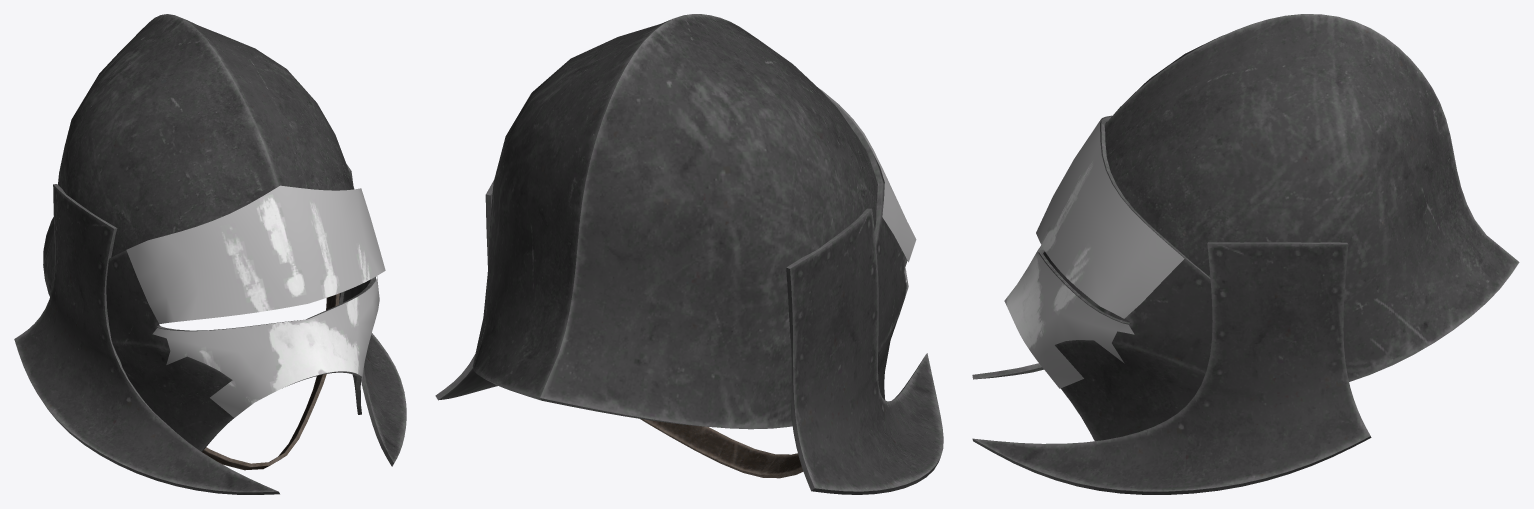
Rendered from sk_uruk_hai_helmet_sword_med_a2.fbx.
3 renders of one model, left to right at view 1: azimuth 30°, elevation 25°; view 2: azimuth 150°, elevation 25°; view 3: azimuth 270°, elevation 25°, orthographic. The views are drawn at different scales.
Visible parts, largest first — view 1: sk_uruk_hai_helmet_sword_med_a2.2, sk_uruk_hai_helmet_sword_med_a2.0, sk_uruk_hai_helmet_sword_med_a2.1; view 2: sk_uruk_hai_helmet_sword_med_a2.2, sk_uruk_hai_helmet_sword_med_a2.1, sk_uruk_hai_helmet_sword_med_a2.0; view 3: sk_uruk_hai_helmet_sword_med_a2.2, sk_uruk_hai_helmet_sword_med_a2.0.
Part boxes in pixels (left/top/right/bottom): sk_uruk_hai_helmet_sword_med_a2.2: left=14, top=14, right=406, bottom=494; sk_uruk_hai_helmet_sword_med_a2.0: left=126, top=185, right=385, bottom=417; sk_uruk_hai_helmet_sword_med_a2.1: left=202, top=293, right=339, bottom=470; sk_uruk_hai_helmet_sword_med_a2.2: left=435, top=14, right=943, bottom=494; sk_uruk_hai_helmet_sword_med_a2.1: left=640, top=419, right=803, bottom=478; sk_uruk_hai_helmet_sword_med_a2.0: left=819, top=88, right=916, bottom=314; sk_uruk_hai_helmet_sword_med_a2.2: left=972, top=14, right=1519, bottom=494; sk_uruk_hai_helmet_sword_med_a2.0: left=1004, top=115, right=1184, bottom=388.
Size of the model in its own units: 0.2651 by 0.3443 by 0.3125.
Materials: 3 (3 with a texture image).
